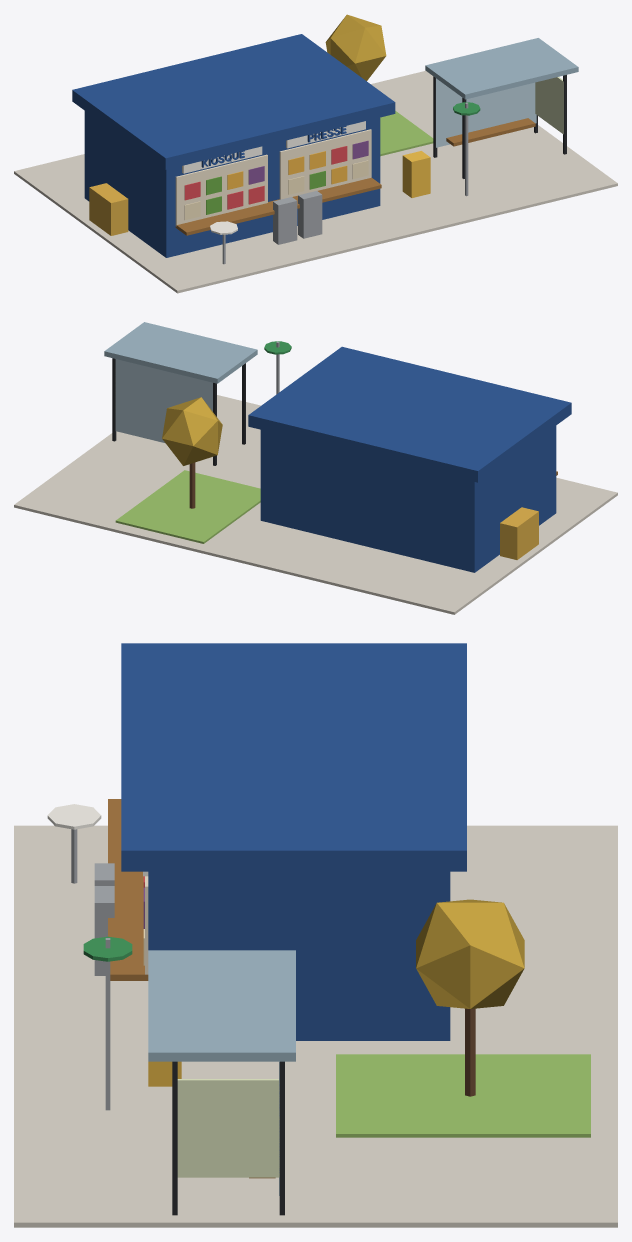
Rendered from Dukkan_cadde_bufe_Hafif.fbx.
3 renders of one model, top to bottom at view 1: azimuth 30°, elevation 25°; view 2: azimuth 150°, elevation 25°; view 3: azimuth 270°, elevation 25°, orthographic. The views are drawn at different scales.
Parts seen in each view (by area): view 1: Dukkan_cadde_bufe_Hafif; view 2: Dukkan_cadde_bufe_Hafif; view 3: Dukkan_cadde_bufe_Hafif.
Part boxes in pixels (x1=…): Dukkan_cadde_bufe_Hafif: x1=14, y1=14, x2=617, y2=293; Dukkan_cadde_bufe_Hafif: x1=14, y1=322, x2=617, y2=614; Dukkan_cadde_bufe_Hafif: x1=14, y1=643, x2=617, y2=1227.
Bounding box in the file's own units: 14 × 3.33 × 9.
